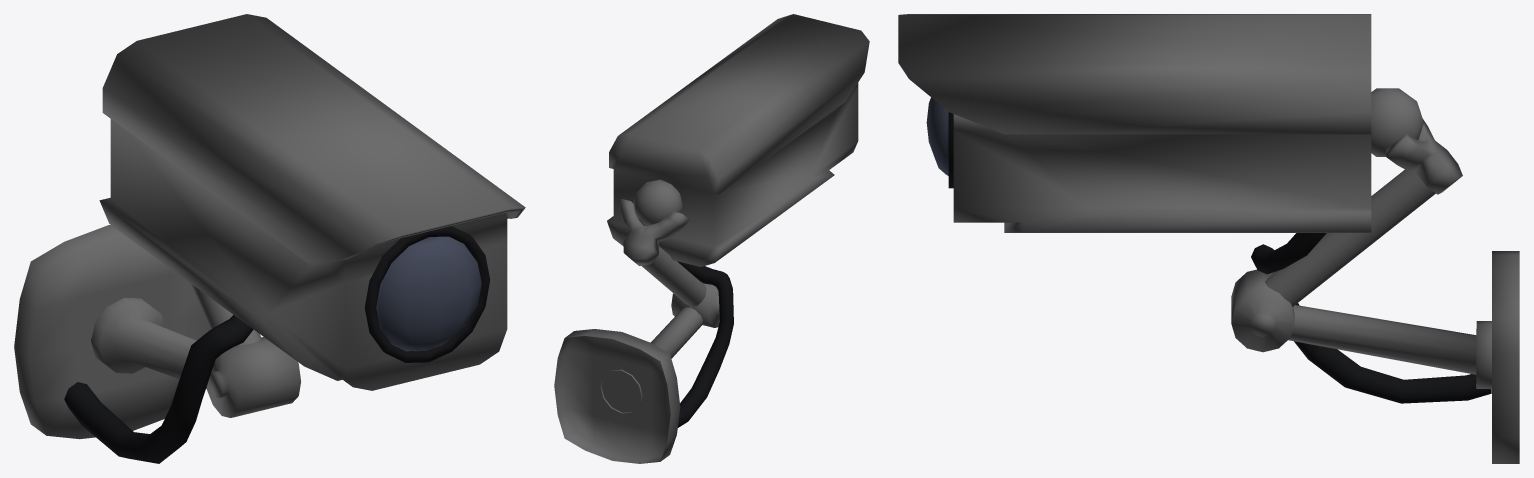
File: CameraDeSeguranca.fbx
3 renders of one model, left to right at view 1: azimuth 30°, elevation 25°; view 2: azimuth 150°, elevation 25°; view 3: azimuth 270°, elevation 25°, orthographic. The views are drawn at different scales.
Parts seen in each view (by area): view 1: Camera; view 2: Camera; view 3: Camera.
Part boxes in pixels (x1,y1,x2,y2): Camera: [14, 14, 525, 463]; Camera: [554, 14, 869, 463]; Camera: [898, 14, 1519, 463].
Bounding box in the file's own units: 13.98 × 32.25 × 44.65.
